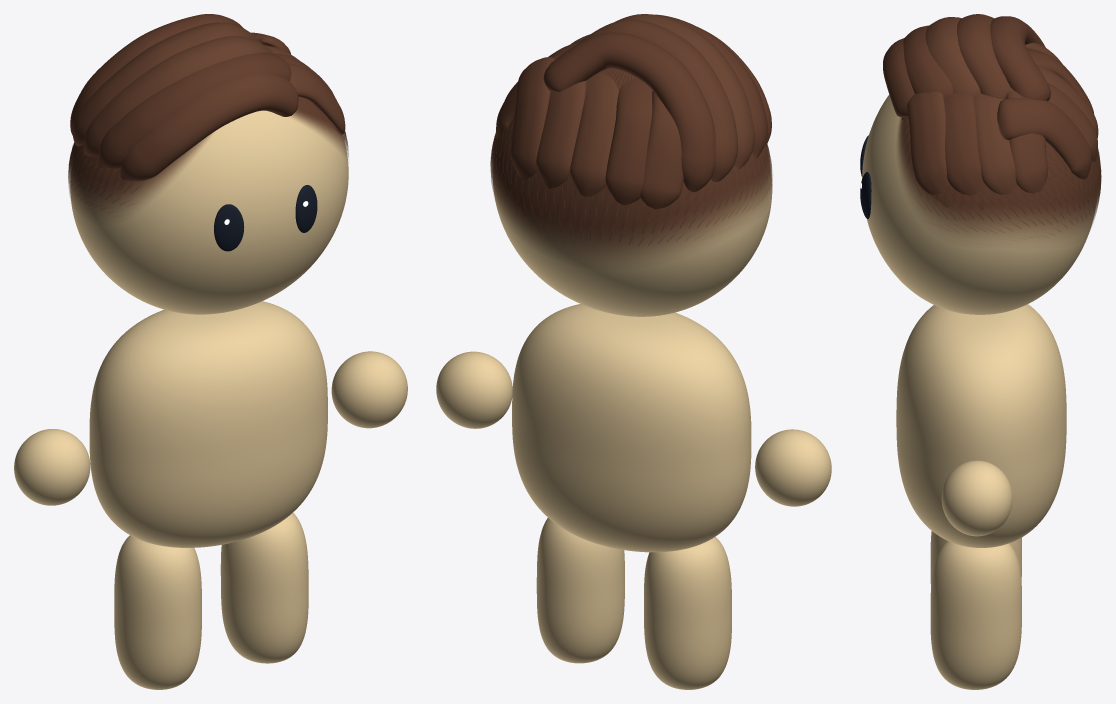
The model's file is Taper-skin1.glb.
3 views of the same model, side by side, from view 1: azimuth 30°, elevation 25°; view 2: azimuth 150°, elevation 25°; view 3: azimuth 270°, elevation 25° (orthographic). The views are drawn at different scales.
Visible parts, largest first — view 1: Skin / compact torso, Skin / soft oval head, Skin / leg -1, Skin / leg 1, Hair / Taper top 0, Hair / Taper top 1, Hair / Taper short sides, Hair / Taper top 2, Skin / hand 1, Skin / hand -1, Hair / Taper top 3, Hair / Taper top 4 (+4 smaller); view 2: Skin / compact torso, Skin / soft oval head, Hair / Taper short sides, Skin / leg -1, Skin / leg 1, Hair / Taper top 4, Skin / hand 1, Skin / hand -1, Hair / Taper top 3, Hair / Taper crown 1, Hair / Taper crown 2, Hair / Taper crown 3 (+6 smaller); view 3: Skin / compact torso, Skin / soft oval head, Skin / leg 1, Hair / Taper short sides, Skin / hand 1, Hair / Taper crown 4, Hair / Taper short sweep 0, Hair / Taper short sweep 1, Hair / Taper top 4, Hair / Taper short sweep 2, Hair / Taper top 3, Hair / Taper top 2 (+9 smaller).
Boxes of the visible parts, left/top/right/bottom form: Skin / compact torso: left=89, top=301, right=327, bottom=547; Skin / soft oval head: left=70, top=110, right=348, bottom=314; Skin / leg -1: left=114, top=535, right=201, bottom=689; Skin / leg 1: left=220, top=512, right=308, bottom=663; Hair / Taper top 0: left=120, top=74, right=298, bottom=181; Hair / Taper top 1: left=98, top=52, right=291, bottom=169; Hair / Taper short sides: left=68, top=96, right=348, bottom=218; Hair / Taper top 2: left=83, top=36, right=274, bottom=156; Skin / hand 1: left=331, top=351, right=407, bottom=428; Skin / hand -1: left=14, top=429, right=90, bottom=505; Hair / Taper top 3: left=72, top=22, right=261, bottom=146; Hair / Taper top 4: left=70, top=14, right=242, bottom=135; Skin / compact torso: left=512, top=304, right=751, bottom=552; Skin / soft oval head: left=493, top=165, right=772, bottom=316; Hair / Taper short sides: left=491, top=68, right=772, bottom=263; Skin / leg -1: left=644, top=536, right=731, bottom=689; Skin / leg 1: left=536, top=518, right=624, bottom=663; Hair / Taper top 4: left=543, top=32, right=715, bottom=192; Skin / hand 1: left=436, top=351, right=512, bottom=428; Skin / hand -1: left=755, top=429, right=831, bottom=506; Hair / Taper top 3: left=578, top=19, right=738, bottom=182; Hair / Taper crown 1: left=605, top=78, right=652, bottom=205; Hair / Taper crown 2: left=570, top=72, right=618, bottom=196; Hair / Taper crown 3: left=536, top=80, right=586, bottom=188; Skin / compact torso: left=896, top=304, right=1066, bottom=547; Skin / soft oval head: left=862, top=95, right=1095, bottom=314; Skin / leg 1: left=930, top=541, right=1021, bottom=689; Hair / Taper short sides: left=897, top=117, right=1101, bottom=241; Skin / hand 1: left=941, top=460, right=1012, bottom=536; Hair / Taper crown 4: left=997, top=97, right=1091, bottom=179; Hair / Taper short sweep 0: left=907, top=92, right=949, bottom=194; Hair / Taper short sweep 1: left=944, top=93, right=983, bottom=195; Hair / Taper top 4: left=990, top=16, right=1050, bottom=100; Hair / Taper short sweep 2: left=974, top=93, right=1016, bottom=194; Hair / Taper top 3: left=957, top=14, right=1010, bottom=99; Hair / Taper top 2: left=925, top=17, right=980, bottom=97.
Bounding box in the file's own units: 1.49 × 2.38 × 0.8289.
